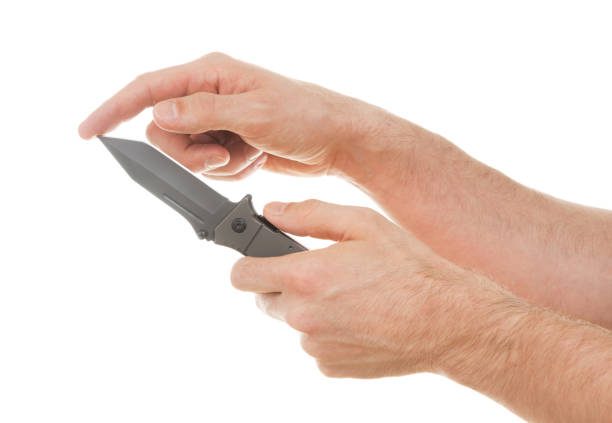knife: (95, 132, 243, 243)
